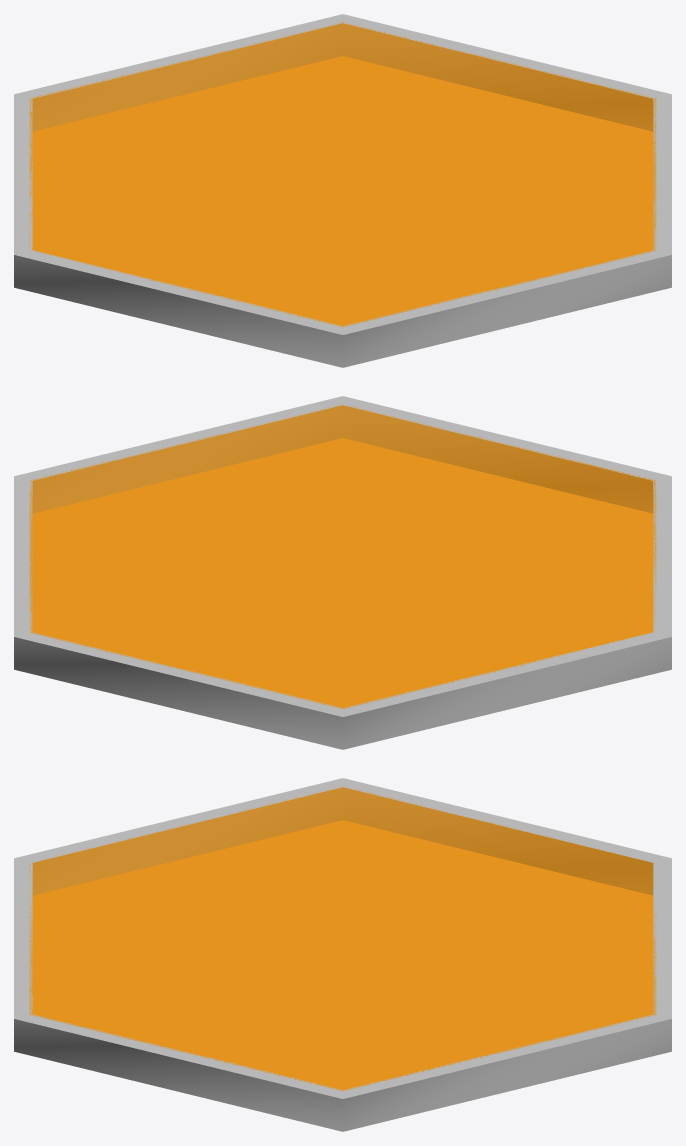
File: HexUnit(orange).fbx
3 renders of one model, top to bottom at view 1: azimuth 30°, elevation 25°; view 2: azimuth 150°, elevation 25°; view 3: azimuth 270°, elevation 25°, orthographic.
Parts seen in each view (by area): view 1: 封顶_2, 封顶_1, 管道; view 2: 封顶_2, 封顶_1, 管道; view 3: 封顶_2, 封顶_1, 管道.
Boxes of the visible parts, x1=… form: 封顶_2: x1=29, y1=22, x2=656, y2=327; 封顶_1: x1=33, y1=56, x2=652, y2=325; 管道: x1=14, y1=14, x2=671, y2=367; 封顶_2: x1=29, y1=404, x2=656, y2=709; 封顶_1: x1=33, y1=438, x2=652, y2=707; 管道: x1=14, y1=396, x2=671, y2=749; 封顶_2: x1=29, y1=786, x2=656, y2=1091; 封顶_1: x1=33, y1=820, x2=652, y2=1089; 管道: x1=14, y1=778, x2=671, y2=1131.
Bounding box in the file's own units: 2.1 × 0.1 × 1.82.
